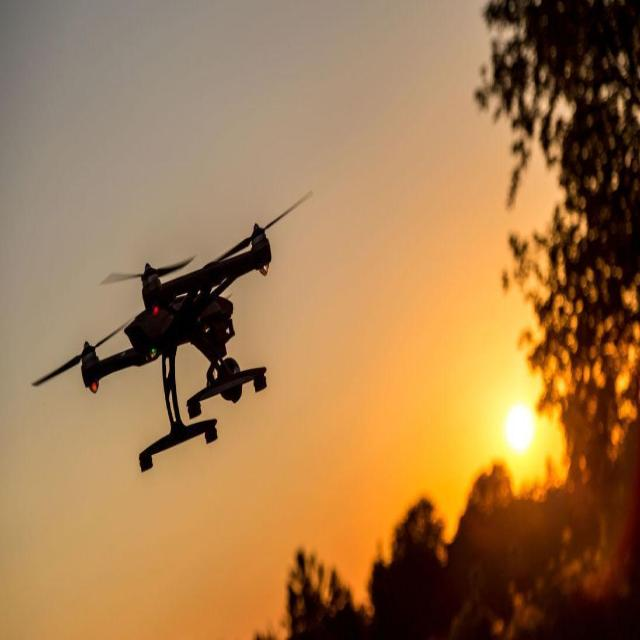drone: (32, 221, 305, 474)
